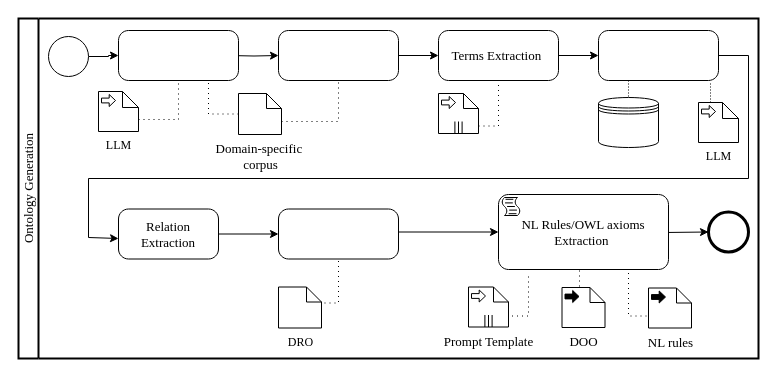
Some shapes in this 776 by 376 pixel diagram are drawn without their labels. The shapes that lost their labels are listed below. From the top down, each one's box as (x1, y1, x2, y2) in pixels, then its label:
(118, 30, 238, 80): Textual Corpus Generation
(278, 30, 398, 80): Pre-processing
(598, 30, 718, 80): Terms Enrichment
(438, 92, 478, 134): Seed words
(598, 96, 658, 148): WordNet Database
(278, 208, 398, 259): Terms refinement and Concept Mapping
